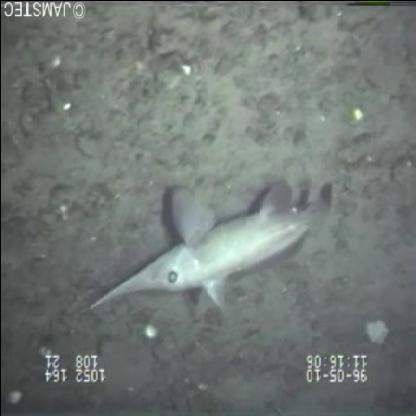Bio: (84, 170, 338, 322)
